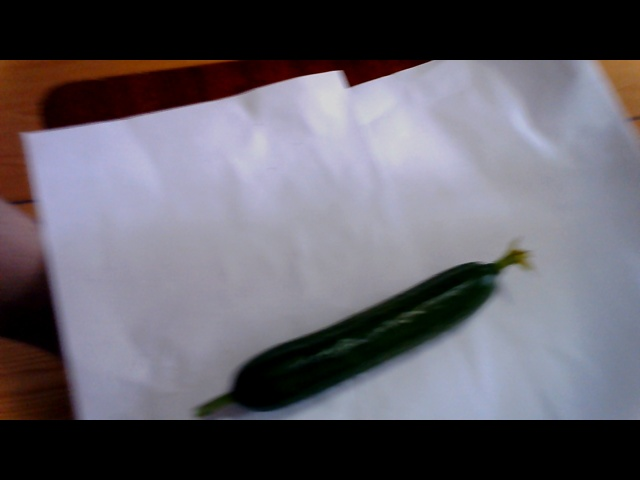cucumber: (209, 250, 532, 414)
